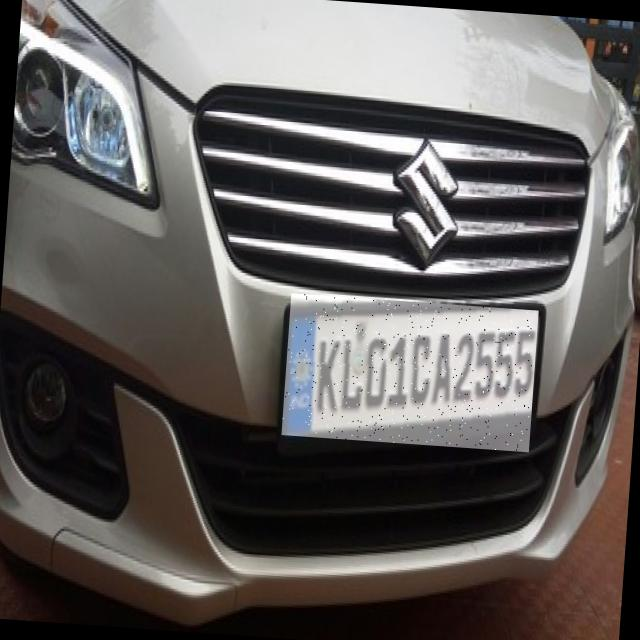Plate: (282, 294, 539, 453)
